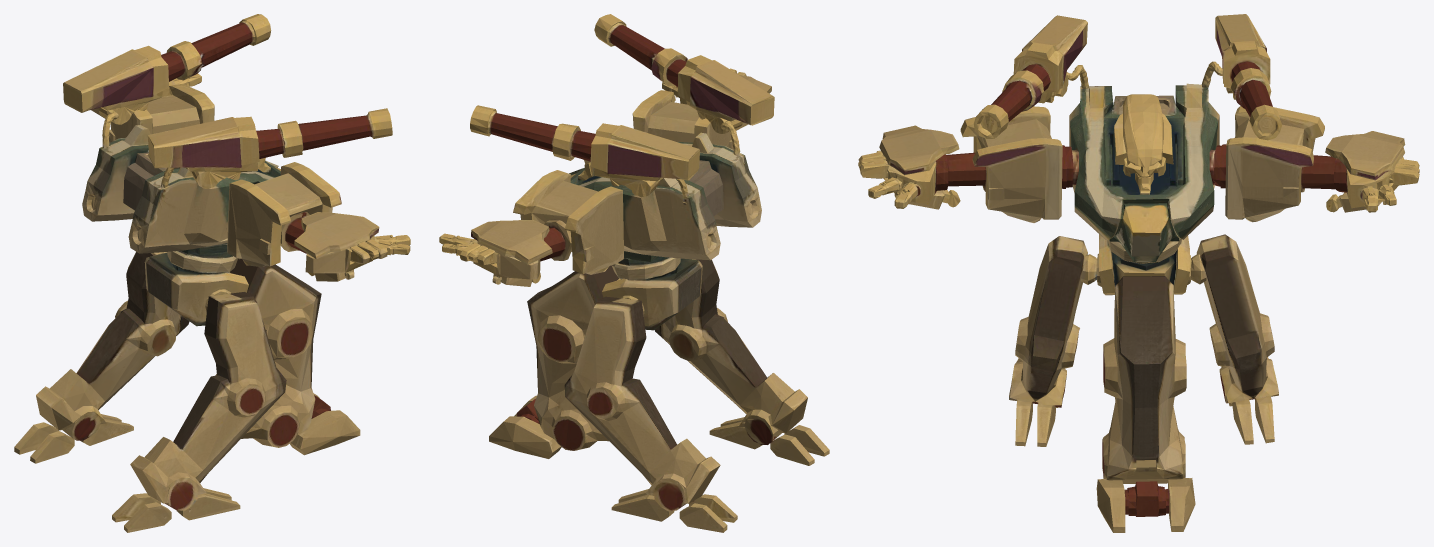
File: heavy.glb
The picture shows the model from 3 angles, left to right: view 1: azimuth 30°, elevation 25°; view 2: azimuth 150°, elevation 25°; view 3: azimuth 270°, elevation 25°; orthographic projection. The views are drawn at different scales.
Parts seen in each view (by area): view 1: tripo_node_fd8f1338-5c3b-49a5-bda8-4a1d85d37b49; view 2: tripo_node_fd8f1338-5c3b-49a5-bda8-4a1d85d37b49; view 3: tripo_node_fd8f1338-5c3b-49a5-bda8-4a1d85d37b49.
Boxes of the visible parts, <box> form: tripo_node_fd8f1338-5c3b-49a5-bda8-4a1d85d37b49: <box>14,14,410,532</box>; tripo_node_fd8f1338-5c3b-49a5-bda8-4a1d85d37b49: <box>439,14,829,532</box>; tripo_node_fd8f1338-5c3b-49a5-bda8-4a1d85d37b49: <box>858,14,1419,532</box>.
Size of the model in its own units: 0.6152 by 0.7988 by 0.998.
Materials: 1 (1 with a texture image).
